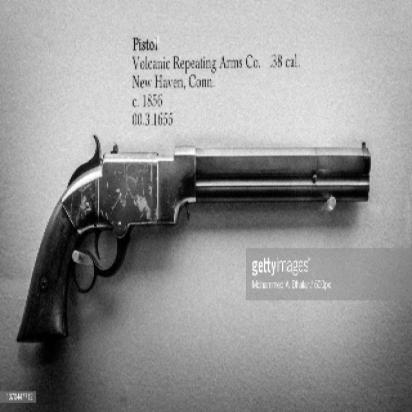Gun: (16, 133, 370, 343)
